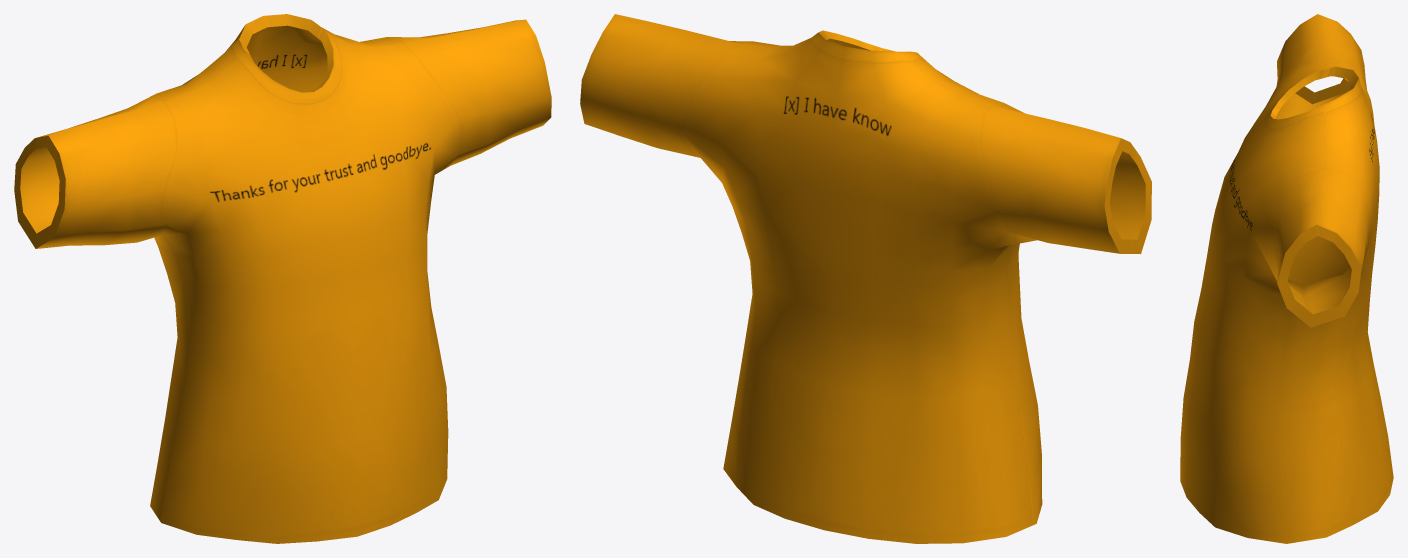
The model's file is TShirt_148.glb.
The picture shows the model from 3 angles, left to right: view 1: azimuth 30°, elevation 25°; view 2: azimuth 150°, elevation 25°; view 3: azimuth 270°, elevation 25°; orthographic projection. The views are drawn at different scales.
Parts seen in each view (by area): view 1: TShirt_LP.001; view 2: TShirt_LP.001; view 3: TShirt_LP.001.
Part boxes in pixels (x1=…): TShirt_LP.001: x1=14, y1=14, x2=551, y2=543; TShirt_LP.001: x1=580, y1=14, x2=1151, y2=543; TShirt_LP.001: x1=1180, y1=14, x2=1393, y2=543.
Size of the model in its own units: 0.6266 by 0.5314 by 0.2526.
Materials: 1 (1 with a texture image).
